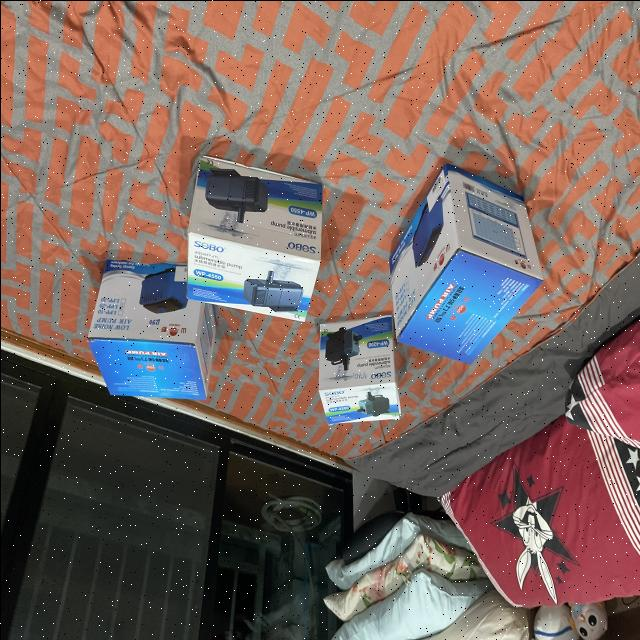SOBO_WP_4200: (162, 131, 332, 335), (307, 310, 415, 438)
YAMANO_LPP_20: (374, 164, 552, 383), (82, 252, 229, 428)
